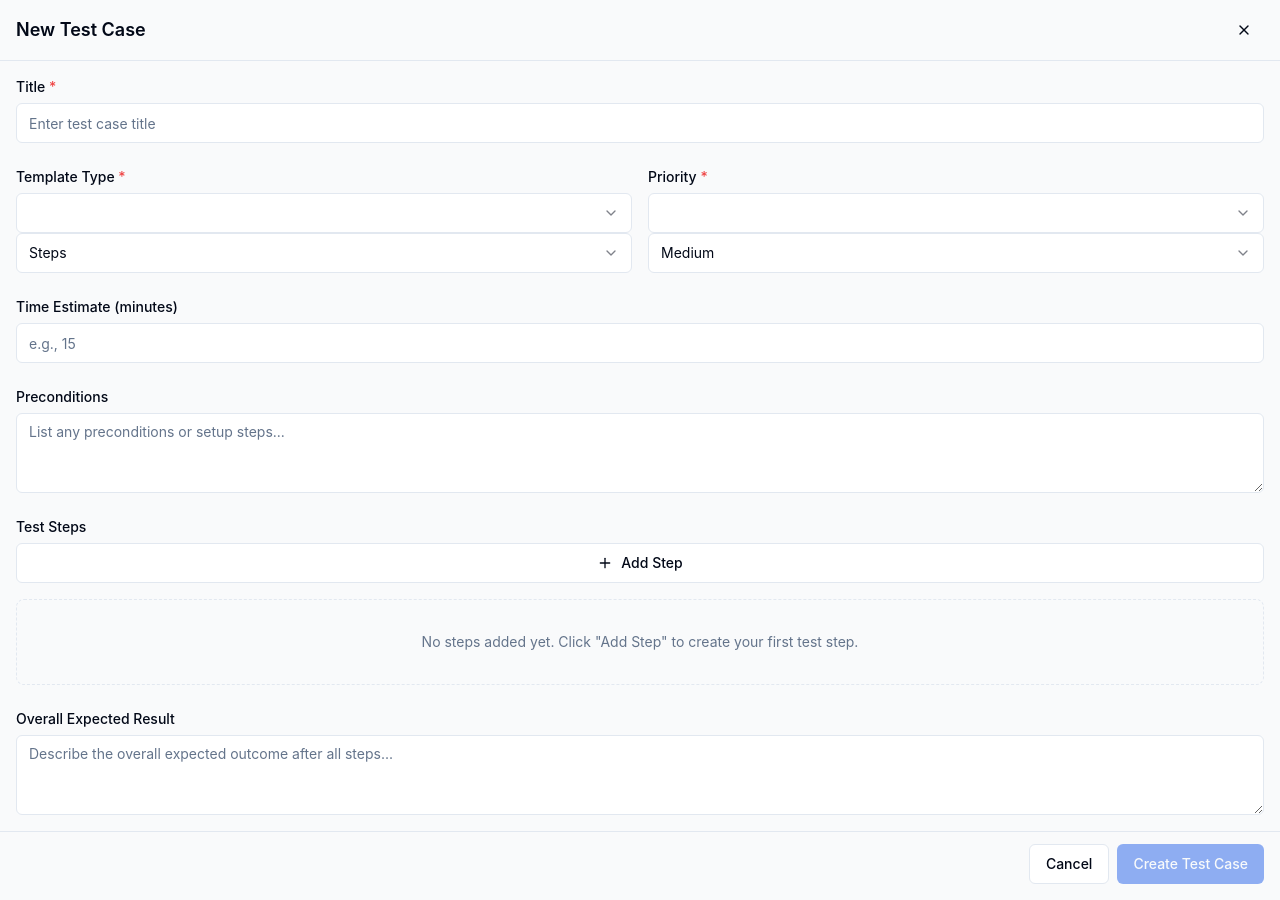
Scenario: TestCaseForm › Submit Button State › should be enabled after user makes changes
In the field labelled "Title *": (640, 123) [16, 103, 1264, 143], type "New test case"
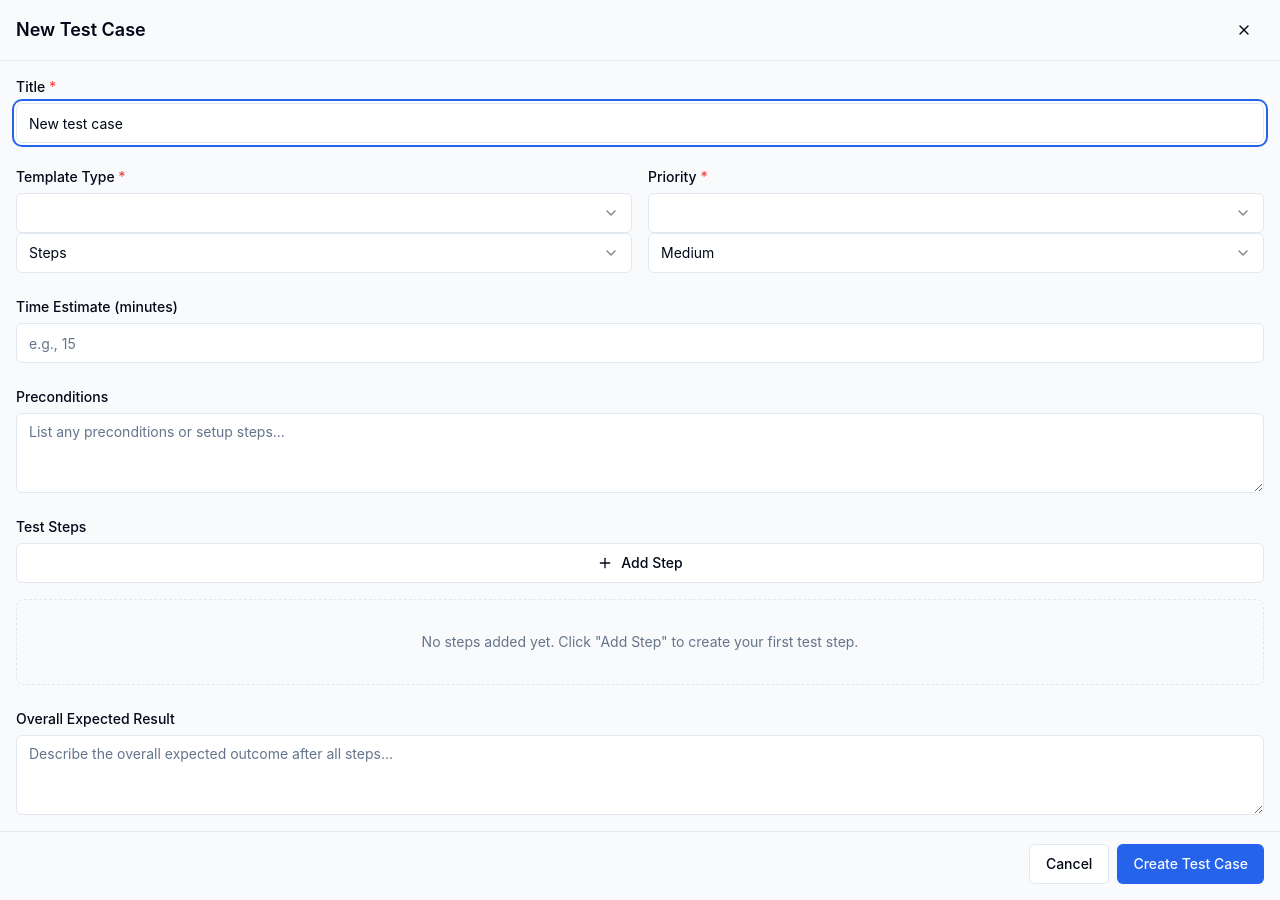
expect the button "Create Test Case" is enabled: met, box [1117, 844, 1264, 884]
